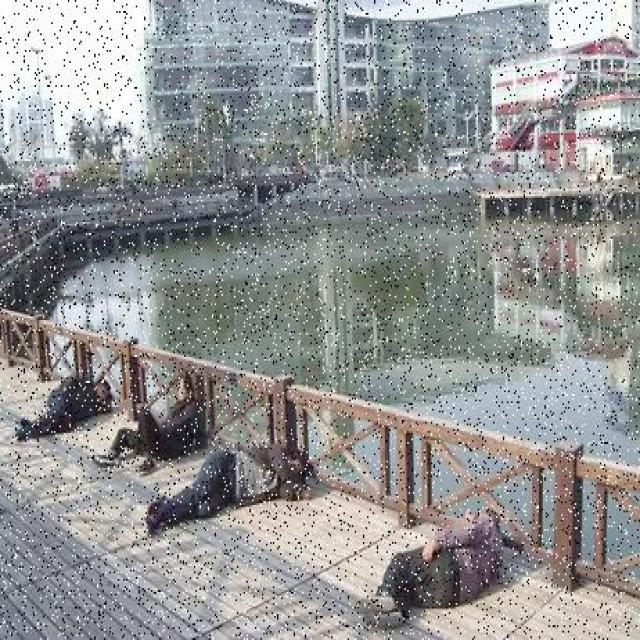fall: (130, 438, 322, 540), (356, 505, 510, 631), (8, 376, 111, 442)
